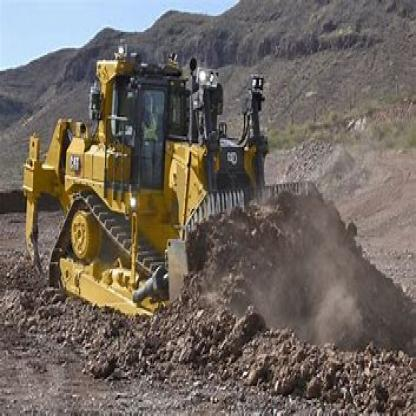bull_dozer/loader/grader: (16, 37, 336, 381)
